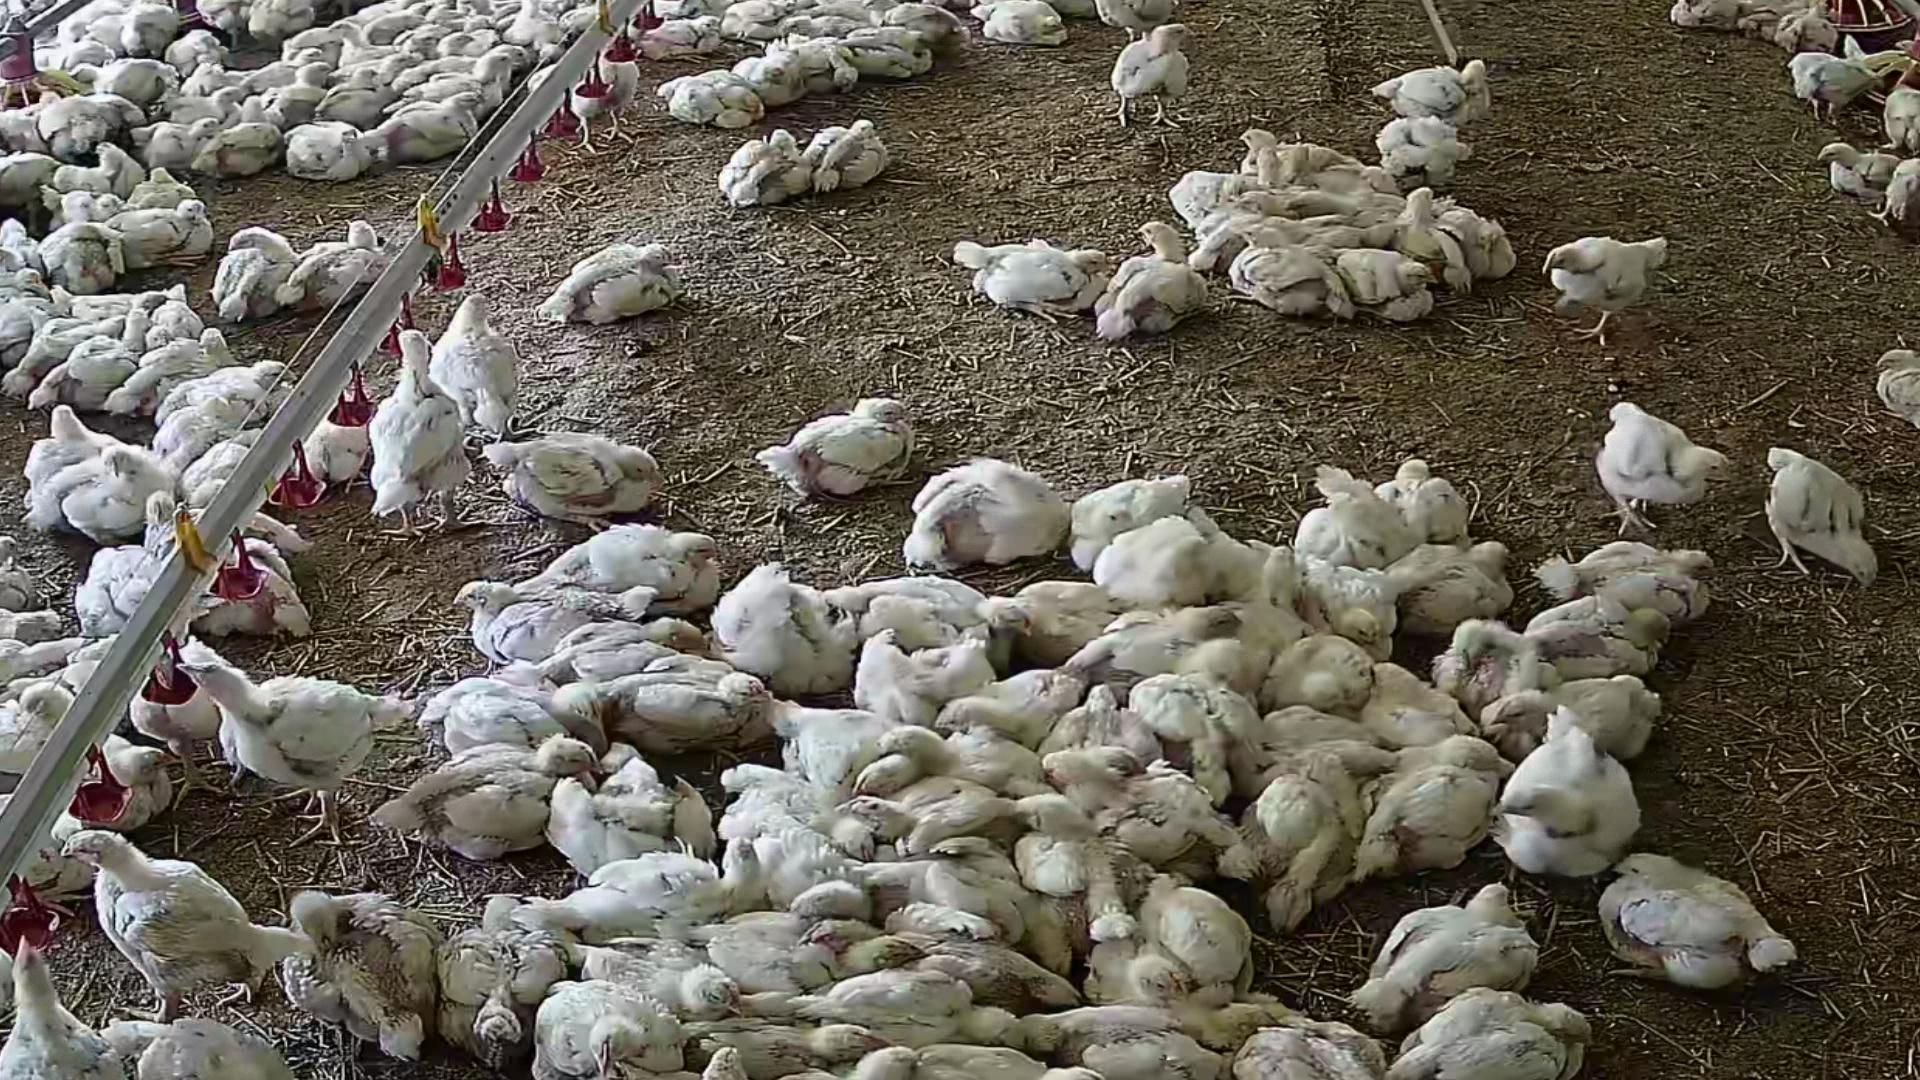poussin: (167, 653, 392, 837), (70, 835, 290, 1001), (262, 874, 440, 1075), (1586, 847, 1788, 1015), (1337, 873, 1555, 1006), (1027, 725, 1229, 865), (353, 322, 473, 555), (144, 487, 305, 647), (404, 731, 600, 861), (754, 367, 914, 525), (1753, 439, 1883, 626), (1586, 377, 1731, 539), (545, 228, 705, 368), (905, 444, 1064, 584), (1494, 732, 1650, 873), (418, 258, 542, 431), (1230, 765, 1375, 910), (1393, 989, 1621, 1080), (815, 909, 1030, 1005), (481, 422, 669, 531), (556, 837, 761, 938), (34, 698, 175, 841), (537, 513, 720, 622), (1535, 222, 1687, 353), (446, 897, 556, 1073), (948, 836, 1087, 972), (447, 567, 637, 665), (1203, 680, 1389, 779), (943, 228, 1106, 339), (836, 550, 1035, 638), (716, 568, 849, 700), (1371, 752, 1507, 881), (1023, 795, 1158, 924), (1265, 451, 1406, 572), (713, 913, 905, 1001), (597, 647, 762, 749), (0, 922, 104, 1080), (1149, 880, 1273, 1004), (837, 767, 1010, 853), (105, 996, 280, 1080), (535, 978, 679, 1080), (767, 698, 916, 794), (563, 761, 699, 866), (1100, 210, 1204, 347), (1076, 599, 1240, 686), (73, 538, 200, 646), (844, 621, 994, 712), (429, 666, 611, 740), (1486, 680, 1646, 764), (600, 922, 728, 1021), (1229, 1000, 1383, 1080), (1535, 596, 1676, 682), (886, 715, 1034, 795), (1772, 33, 1899, 127), (1102, 15, 1199, 137), (940, 659, 1073, 746), (117, 331, 260, 411), (1080, 450, 1203, 538), (1329, 244, 1447, 336), (708, 1001, 868, 1067), (67, 438, 171, 537), (1072, 920, 1189, 1007), (293, 203, 377, 323), (1431, 628, 1544, 715), (555, 40, 641, 154), (1394, 535, 1514, 616), (13, 393, 111, 492), (1374, 51, 1505, 125), (1366, 662, 1464, 760), (1313, 555, 1404, 659), (57, 320, 156, 415), (170, 351, 303, 421), (1389, 189, 1476, 295), (1022, 579, 1143, 654), (717, 128, 820, 216), (203, 219, 290, 320), (1240, 228, 1332, 323), (1354, 105, 1470, 179), (800, 109, 891, 200), (389, 91, 488, 174), (324, 51, 426, 132), (650, 69, 762, 140), (1276, 630, 1370, 715), (1056, 675, 1155, 754), (1559, 543, 1713, 593), (102, 196, 219, 261), (199, 112, 301, 179), (282, 117, 376, 190), (1578, 567, 1706, 617), (1866, 344, 1920, 462), (251, 66, 340, 136), (47, 219, 132, 293), (61, 136, 141, 211), (73, 51, 185, 104), (1807, 141, 1898, 206), (634, 11, 732, 69), (1238, 123, 1338, 178), (840, 29, 931, 90), (972, 4, 1079, 54), (414, 58, 510, 111), (33, 94, 107, 161), (865, 0, 977, 44), (1451, 210, 1527, 273), (735, 40, 812, 102), (175, 91, 261, 146), (1779, 3, 1853, 65), (140, 115, 220, 167), (121, 157, 199, 211), (794, 29, 857, 95), (0, 530, 55, 605), (142, 286, 212, 345), (0, 141, 65, 204), (111, 0, 175, 59), (724, 0, 800, 44), (326, 21, 402, 65), (244, 0, 311, 46), (786, 12, 880, 44), (1880, 152, 1920, 225), (195, 0, 252, 50), (1673, 0, 1741, 40), (171, 30, 231, 69), (1283, 191, 1367, 218), (1888, 95, 1920, 157), (0, 258, 49, 298), (1226, 187, 1282, 215), (435, 26, 481, 55), (405, 25, 442, 57), (488, 41, 537, 65)
